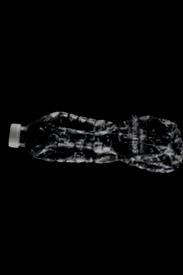Plastic: (6, 106, 182, 172)
